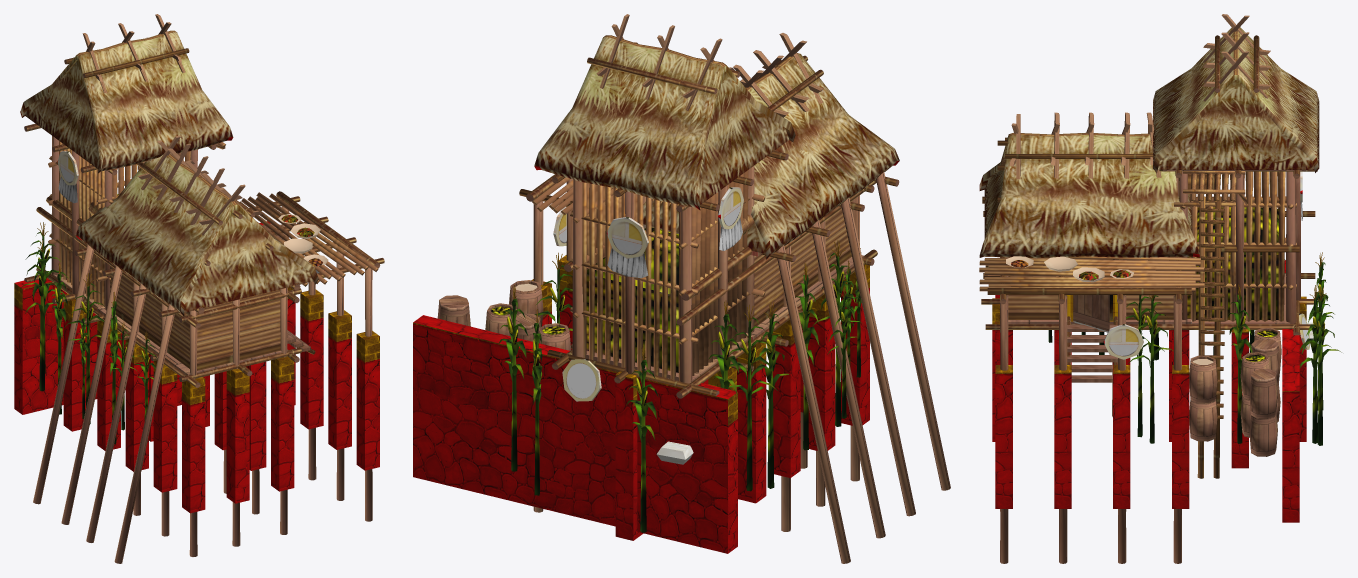
The model's file is zapo_farmstead.dae.
3 views of the same model, side by side, from view 1: azimuth 30°, elevation 25°; view 2: azimuth 150°, elevation 25°; view 3: azimuth 270°, elevation 25° (orthographic). The views are drawn at different scales.
Visible parts, largest first — view 1: Cube_008; view 2: Cube_008; view 3: Cube_008.
Boxes of the visible parts, box(x1,y1,x2,y2) form: Cube_008: box(14, 14, 384, 563); Cube_008: box(413, 14, 950, 563); Cube_008: box(979, 14, 1341, 563).
Bounding box in the file's own units: 13.47 × 13.72 × 19.18.
